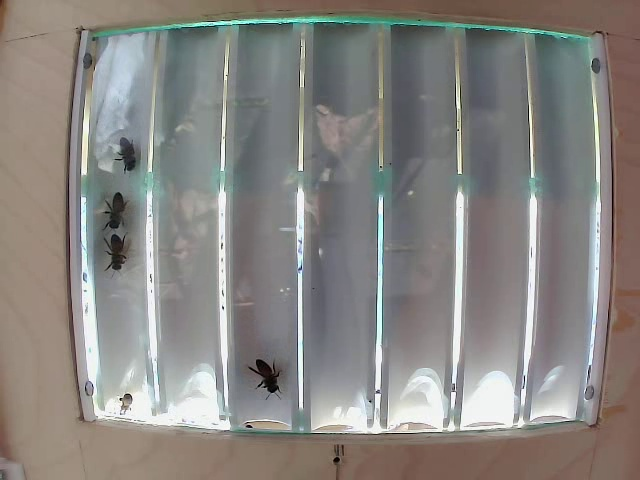bee: (247, 349, 294, 403), (104, 234, 141, 288), (114, 133, 152, 174), (100, 188, 133, 235)
